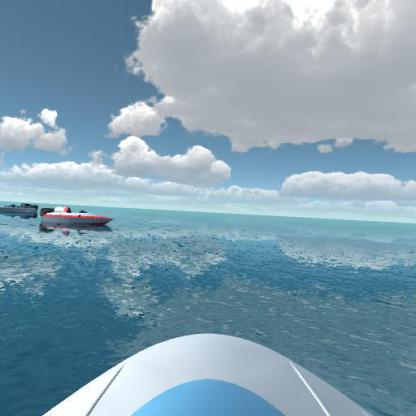usv1: (0, 197, 39, 223)
usv3: (39, 204, 114, 235)
